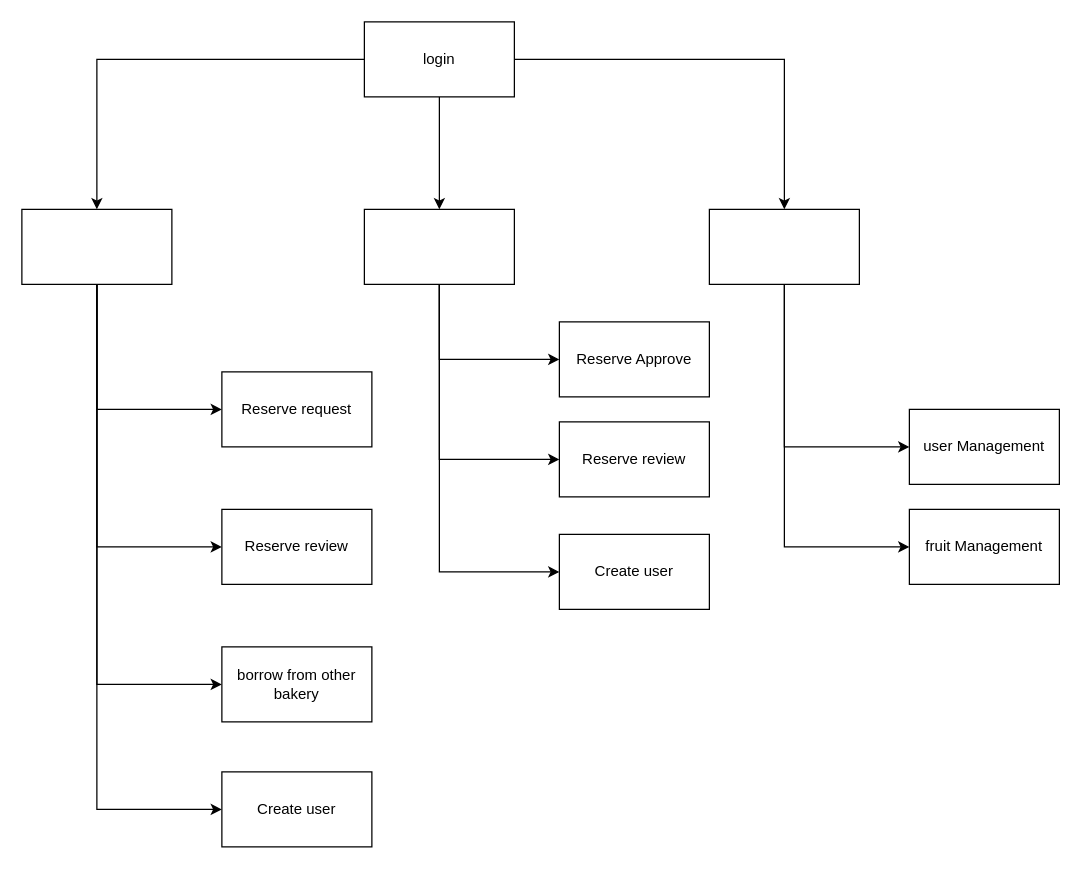
This 1081x869 diagram has some shape labels left out. The shapes that lost their labels are listed below. From the top down, each one's centre as x and y in pixels, then its label:
At point (96, 246): "bakery staff homepage".
At point (438, 246): "warehouse Staff homepage".
At point (783, 246): "Senior Management".
